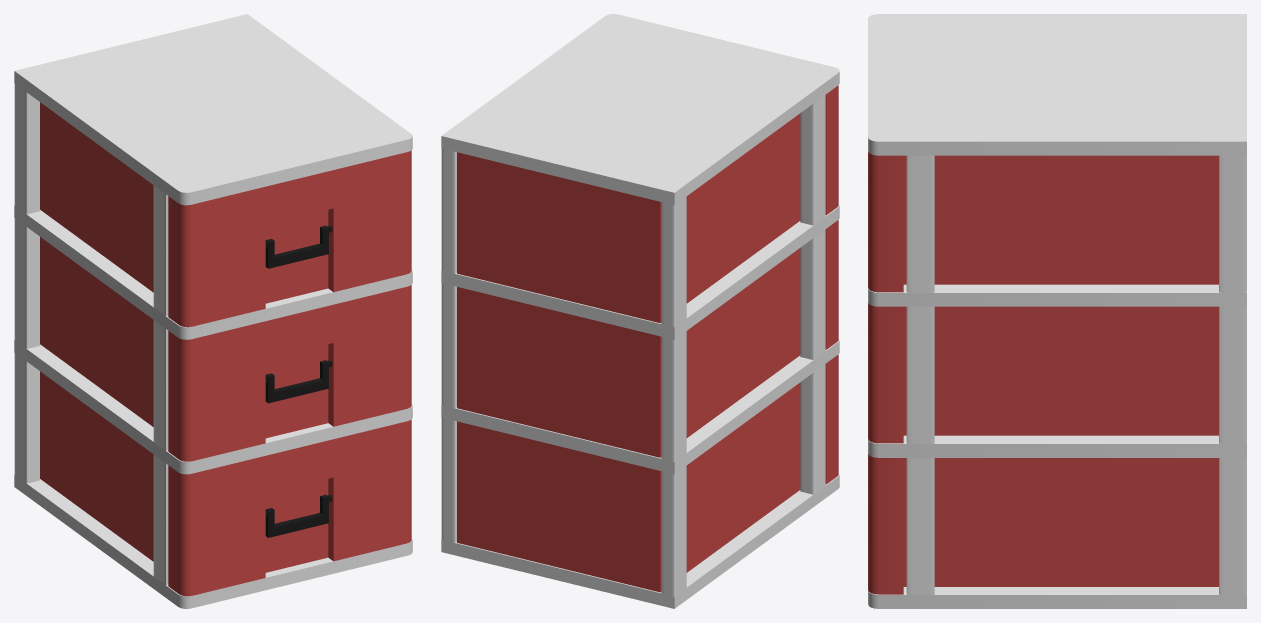
File: Drawer26.fbx
3 views of the same model, side by side, from view 1: azimuth 30°, elevation 25°; view 2: azimuth 150°, elevation 25°; view 3: azimuth 270°, elevation 25° (orthographic). The views are drawn at different scales.
Parts seen in each view (by area): view 1: Drawer26_Body, Drawer26_2, Drawer26_3, Drawer26_1; view 2: Drawer26_Body, Drawer26_3, Drawer26_1, Drawer26_2; view 3: Drawer26_Body, Drawer26_2, Drawer26_1, Drawer26_3.
Part boxes in pixels (left/top/right/bottom): Drawer26_Body: left=14, top=14, right=412, bottom=608; Drawer26_2: left=40, top=237, right=411, bottom=461; Drawer26_3: left=40, top=371, right=411, bottom=596; Drawer26_1: left=40, top=102, right=411, bottom=327; Drawer26_Body: left=441, top=14, right=839, bottom=608; Drawer26_3: left=457, top=354, right=838, bottom=592; Drawer26_1: left=457, top=85, right=838, bottom=322; Drawer26_2: left=457, top=220, right=838, bottom=457; Drawer26_Body: left=868, top=14, right=1246, bottom=608; Drawer26_2: left=868, top=303, right=1218, bottom=443; Drawer26_1: left=868, top=151, right=1218, bottom=292; Drawer26_3: left=868, top=454, right=1218, bottom=594.
Bounding box in the file's own units: 33.6 × 57.31 × 42.12.
